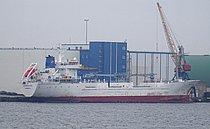Ship: (11, 46, 204, 105)
